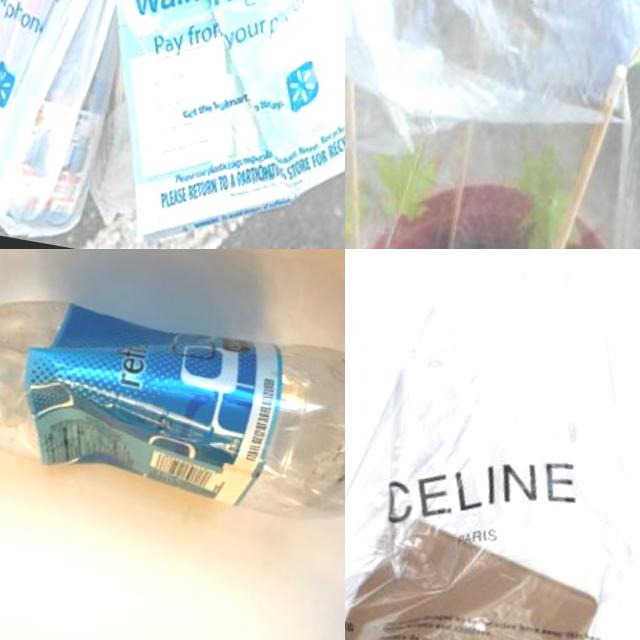garrafa plástica: (0, 269, 345, 530)
sacola plástica: (345, 249, 640, 640), (345, 0, 640, 249), (72, 0, 345, 233), (0, 0, 197, 249)
